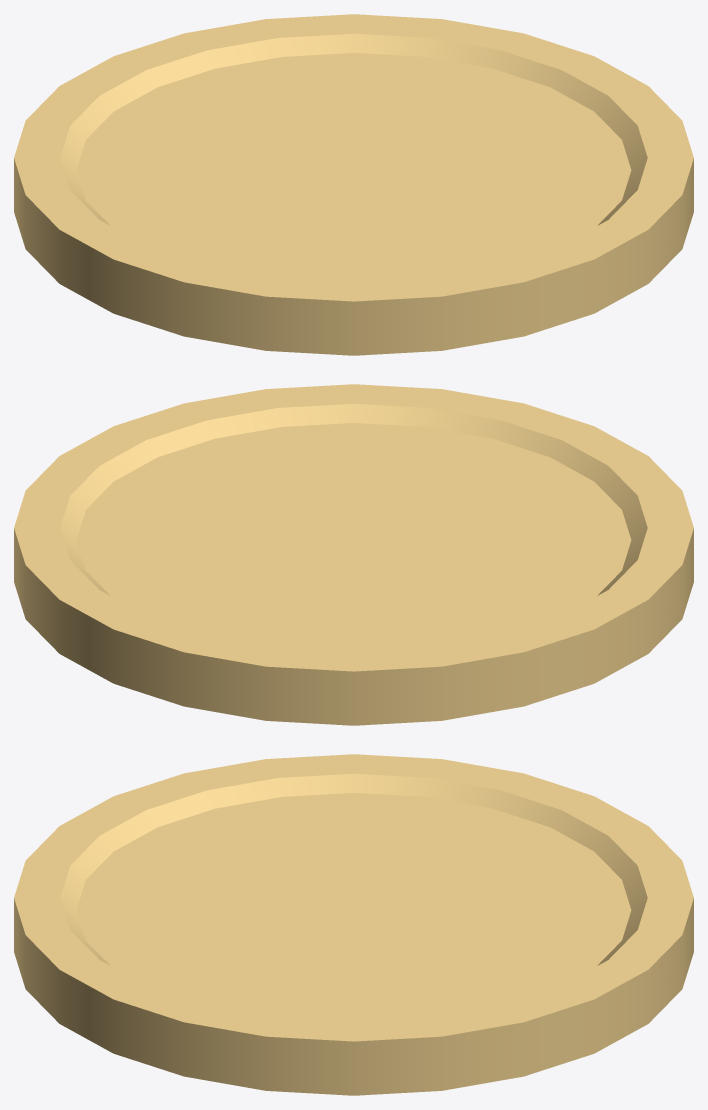
The model's file is coin.glb.
3 views of the same model, one above another, from view 1: azimuth 30°, elevation 25°; view 2: azimuth 150°, elevation 25°; view 3: azimuth 270°, elevation 25° (orthographic).
Visible parts, largest first — view 1: coin; view 2: coin; view 3: coin.
Part boxes in pixels (x1,y1,x2,y2): coin: (14,14,693,355); coin: (14,384,693,725); coin: (14,754,693,1095).
Bounding box in the file's own units: 0.025 × 0.0022 × 0.025.
